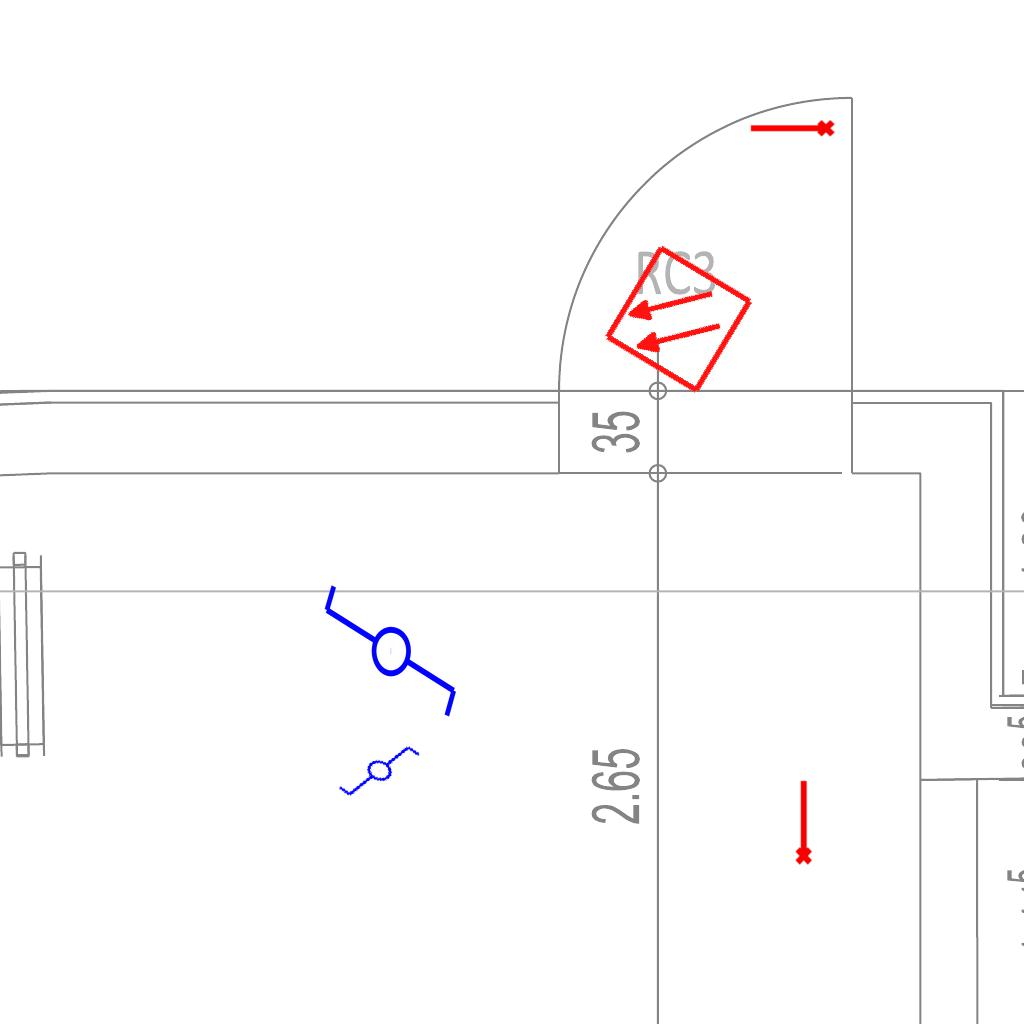ASR_Ansaugoeffnung: (791, 778, 814, 866), (748, 118, 836, 141)
RMO_Rauchmelder_optischer: (600, 241, 757, 398)
Wechselschalter: (317, 581, 461, 738), (334, 726, 432, 820)
